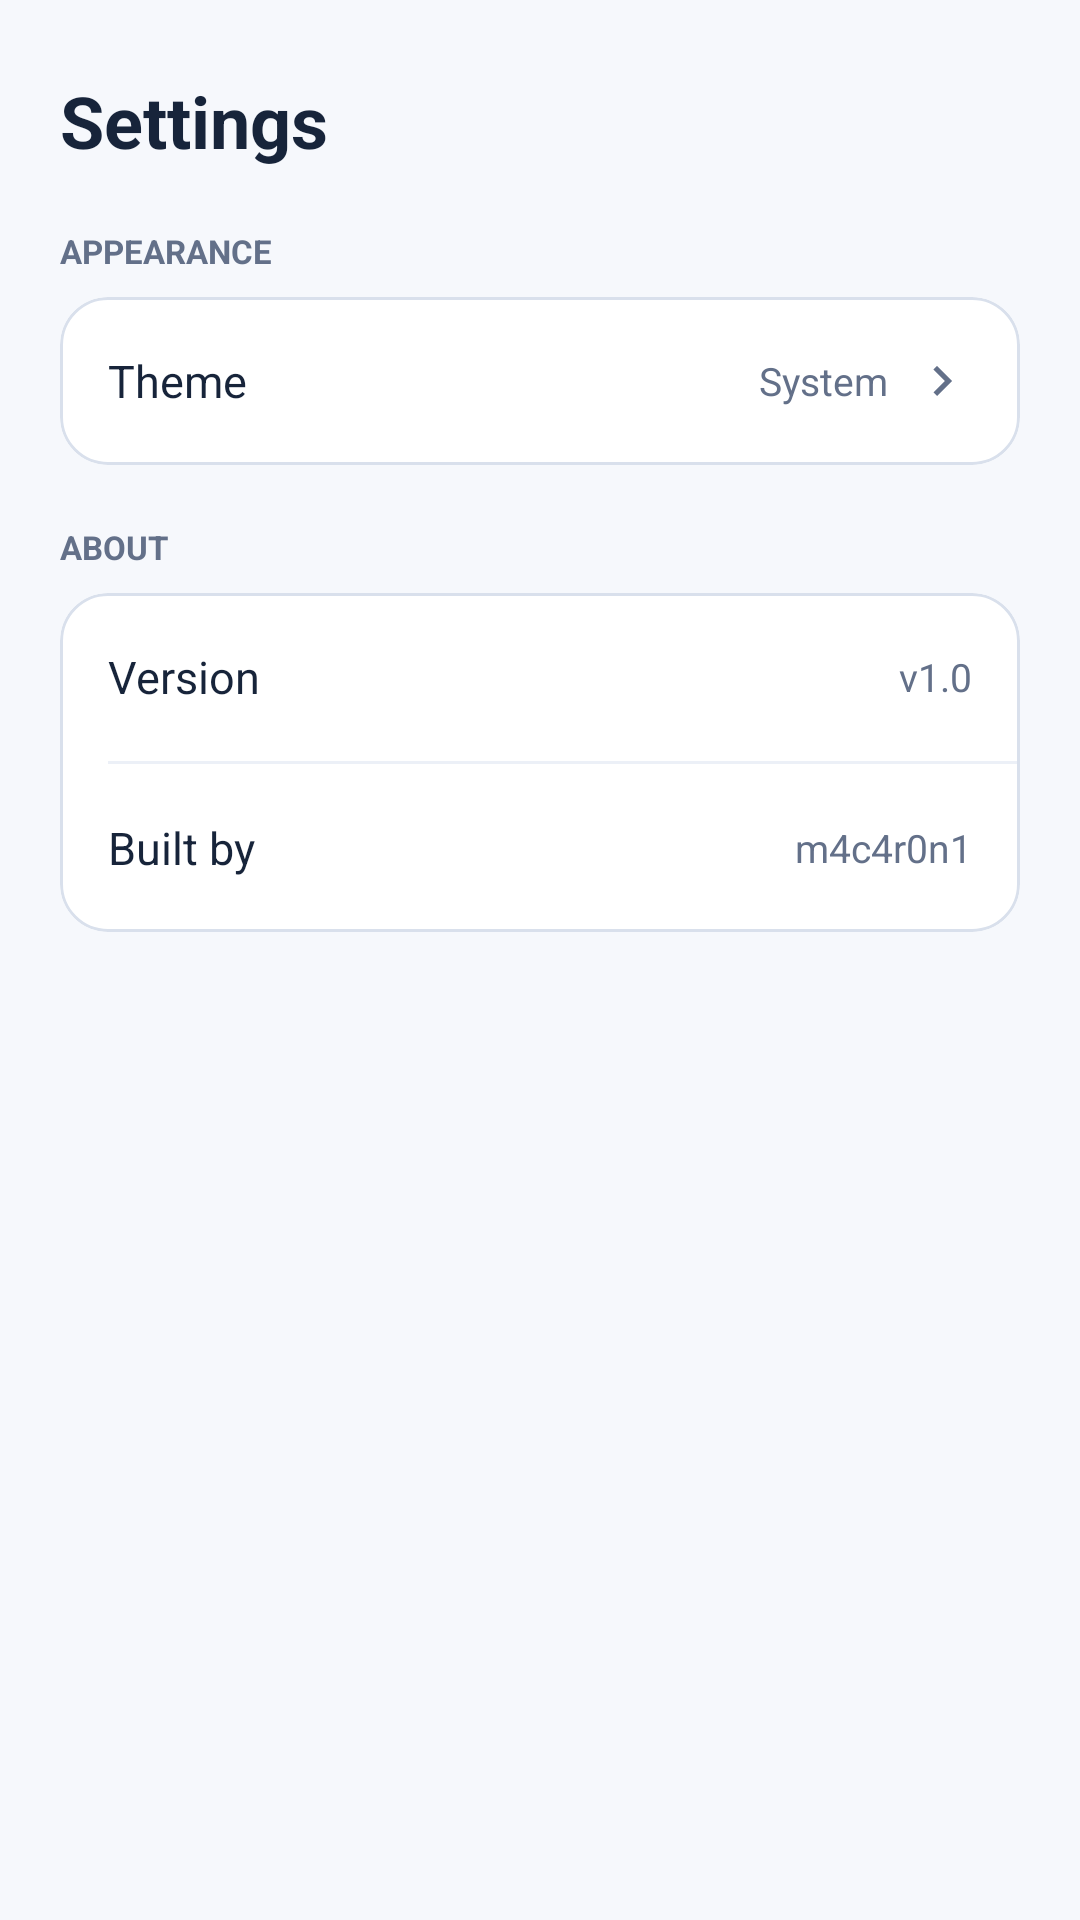

Point at icon controls on the screen. Image size 1080px×1920px, points as point (x, y).
chevron right: point (942, 381)
